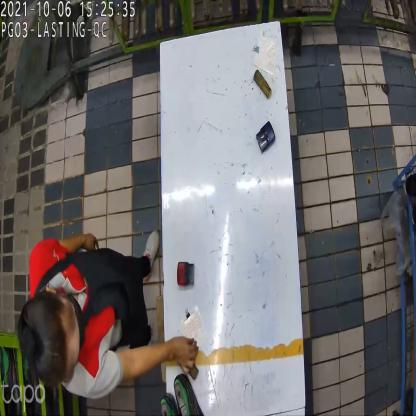stamp: (256, 121, 276, 156), (177, 258, 195, 288)
